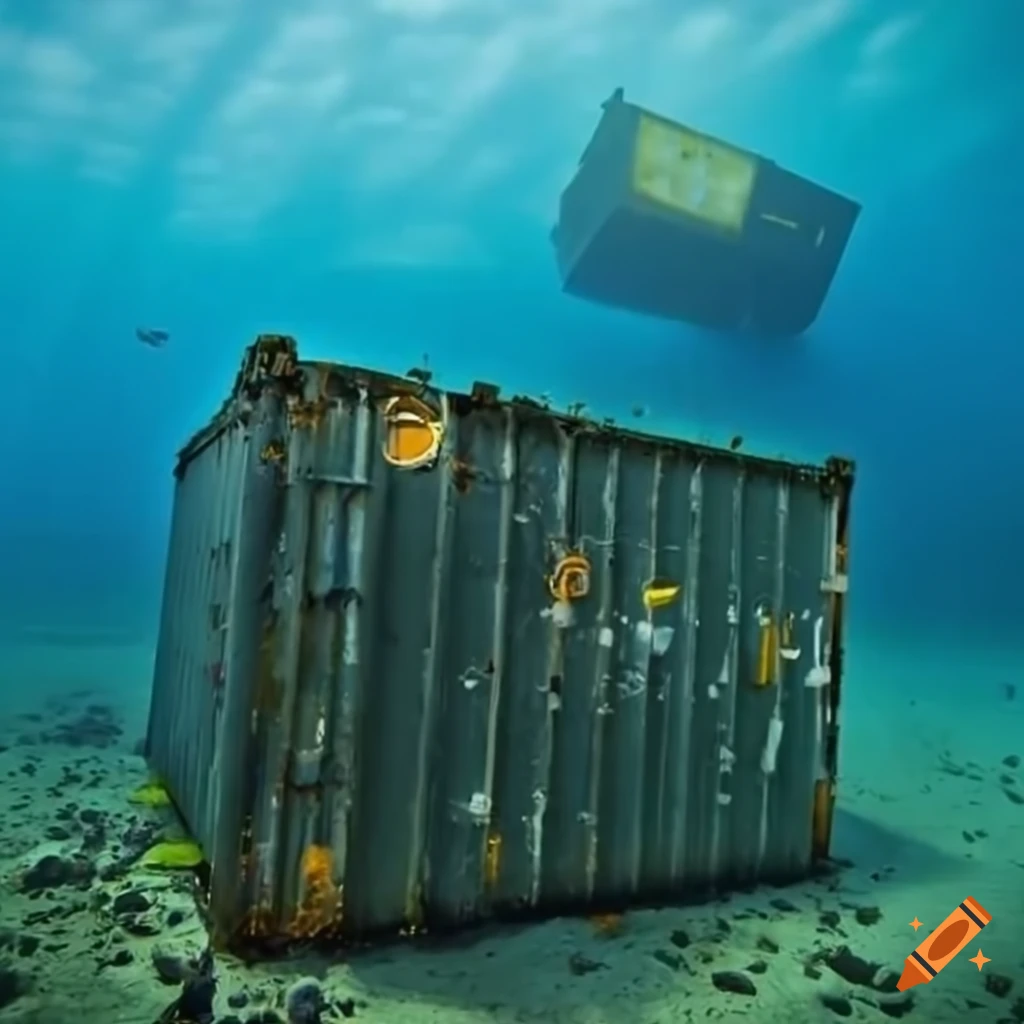Container: (144, 328, 858, 971), (543, 88, 865, 345)
